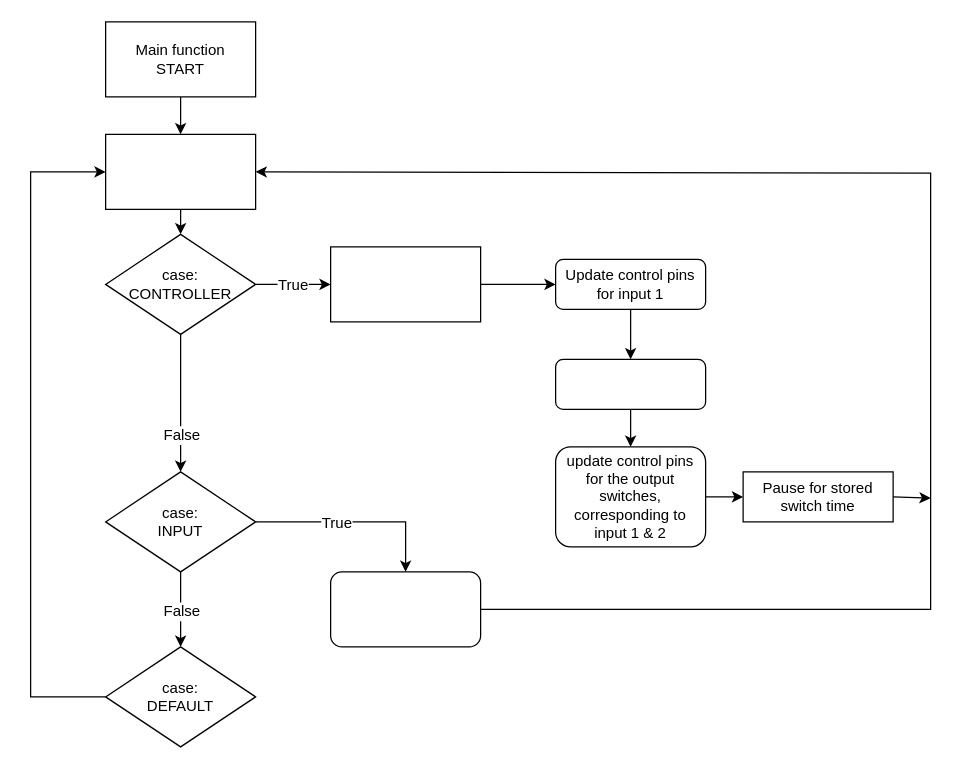
Image size: 963x769. Some labels were removed from this diagram. Each missing label, with the centre of its shape:
"Delay 100mS" goes at (405,609).
"Linked list: move to next item in list both linked lists" goes at (405,284).
"Switch: (MODE)" goes at (180,171).
"Update control pins for input 2" goes at (630,383).
